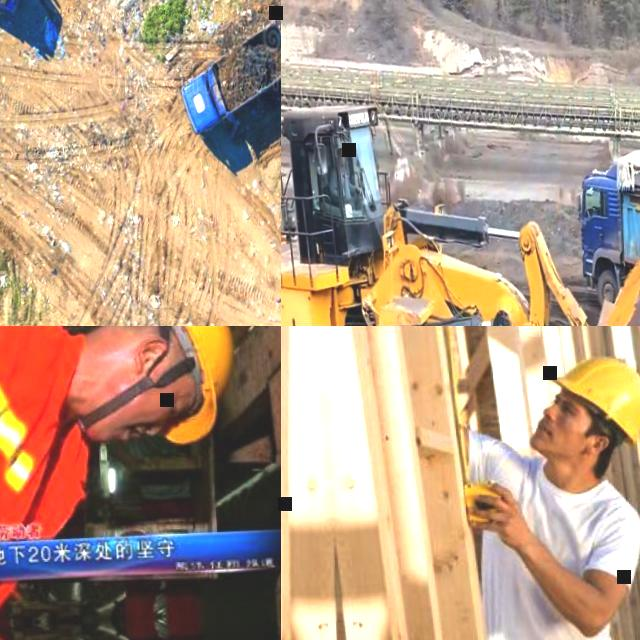helmet: (104, 326, 240, 448), (538, 350, 640, 452)
machinery: (281, 76, 640, 326), (172, 12, 281, 143), (574, 134, 640, 326)
no_mask: (80, 348, 150, 446), (524, 414, 578, 458)
no_vest: (461, 423, 629, 640), (334, 168, 350, 200)
person: (0, 326, 251, 595), (434, 326, 640, 640), (329, 156, 362, 202)
vest: (0, 339, 85, 592)
